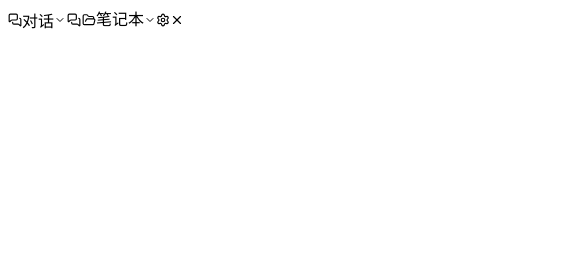
Scenario: floating bar screenshot answer › keeps a failed model round in the current conversation panel
The image size is (563, 253).
Click the button "对话": (37, 20) [8,8,66,32]
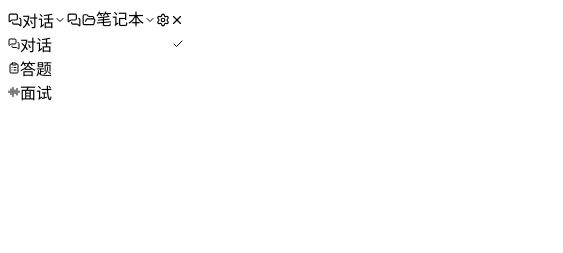
Click the menu item "答题": (96, 68) [8,56,184,80]
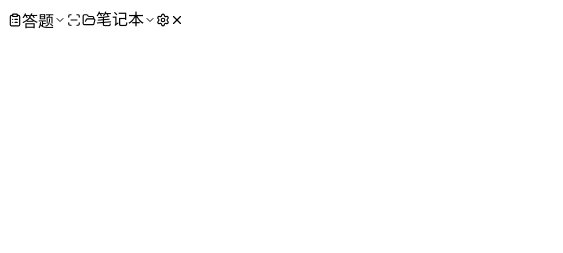
Click the button named "截图提问": (74, 20) [67,13,81,27]
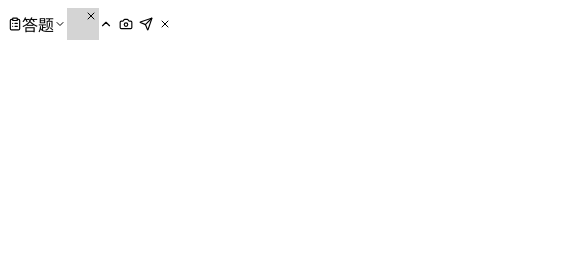
Click the button named "确认发送": (146, 24) [139,17,153,31]
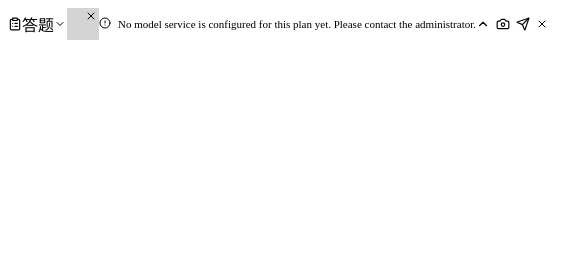
Expected: the message shows "No model service is configured for this plan yet.", [118,18,476,30]
Click the button named "展开对话面板": (483, 24) [476,17,490,31]
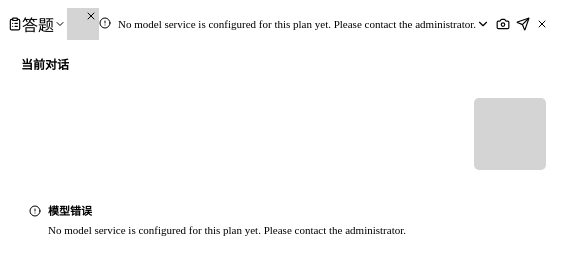
Expected: the text "No model service is configured for this plan yet." below "模型错误" is shown, [48,224,406,236]
